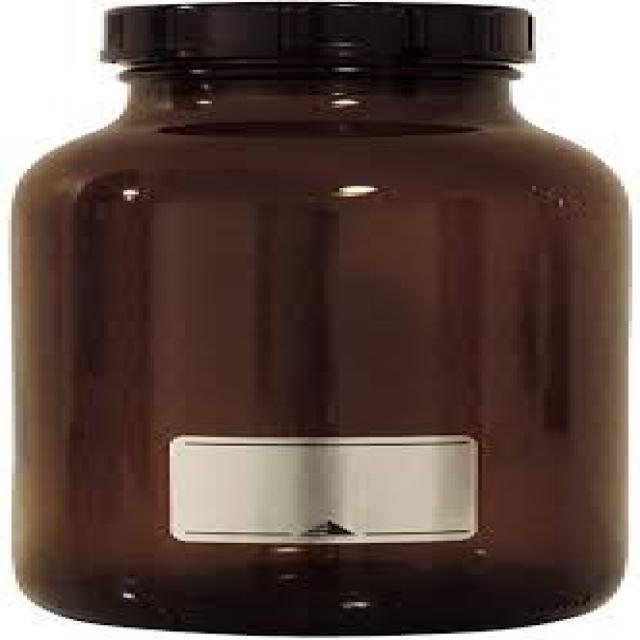glass: (4, 59, 628, 636)
metal: (96, 0, 532, 74)
